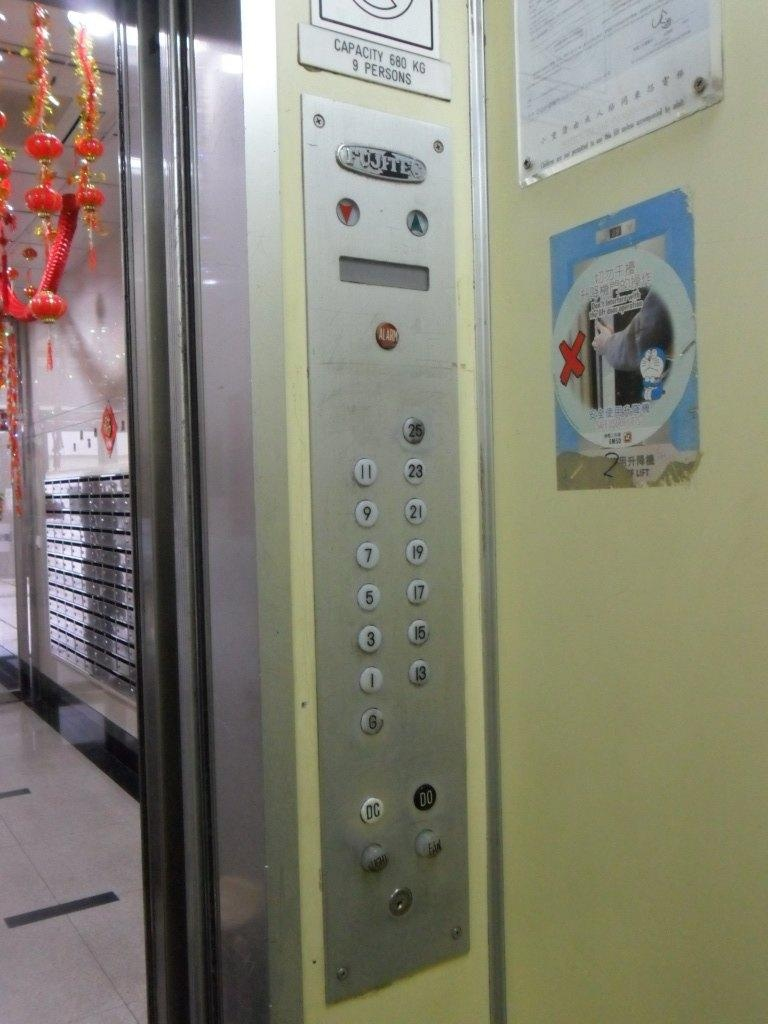1: (359, 666, 383, 692)
11: (354, 458, 378, 486)
13: (409, 660, 431, 685)
15: (408, 620, 429, 645)
17: (407, 580, 429, 604)
19: (406, 539, 428, 565)
21: (404, 498, 426, 525)
23: (404, 456, 426, 485)
25: (403, 417, 425, 444)
3: (359, 626, 380, 653)
5: (357, 584, 380, 611)
7: (356, 542, 379, 569)
9: (355, 500, 379, 527)
DC: (358, 795, 384, 825)
DO: (413, 784, 437, 811)
G: (361, 708, 384, 735)
down: (336, 198, 361, 227)
keyhole: (388, 888, 413, 917)
text_ALARM: (375, 323, 399, 351)
text_blur: (362, 845, 389, 873), (415, 830, 442, 858)
up: (407, 210, 429, 237)
